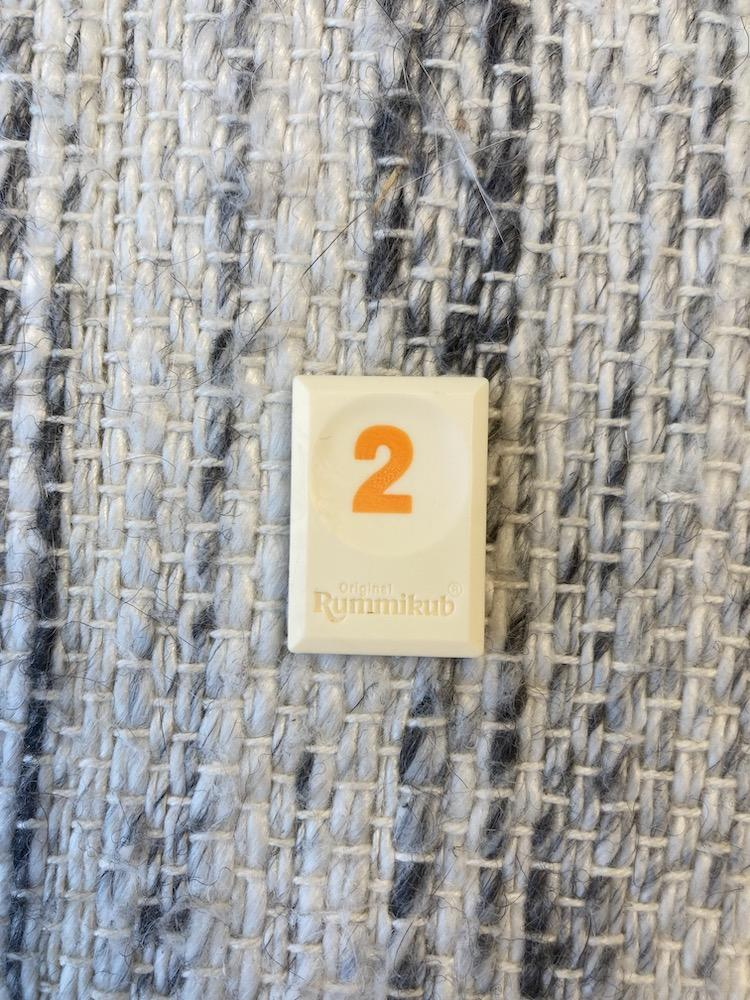orange_2: (289, 377, 488, 656)
